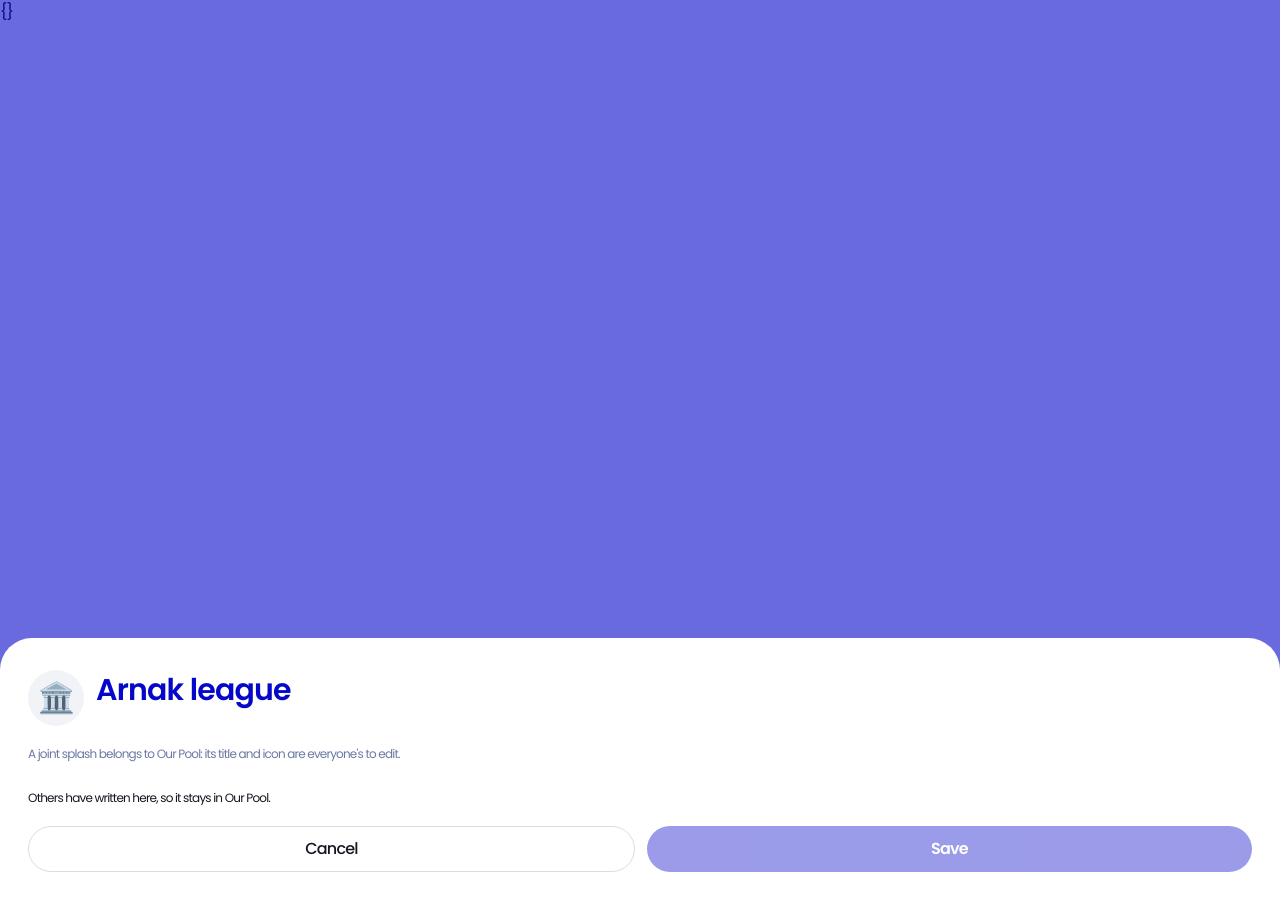
Test: editing a joint splash (review) › offers title and icon only, saves them, and shows them at once
The image size is (1280, 900).
Expected: the element that starts with "Arnak league" is shown, [28, 670, 1252, 872]
Expected: the button "Save" is disabled, [647, 826, 1252, 872]
Step 1. Replace the text in the text box named "title" with "Arnak finals" → (674,691), box [96, 670, 1252, 711]
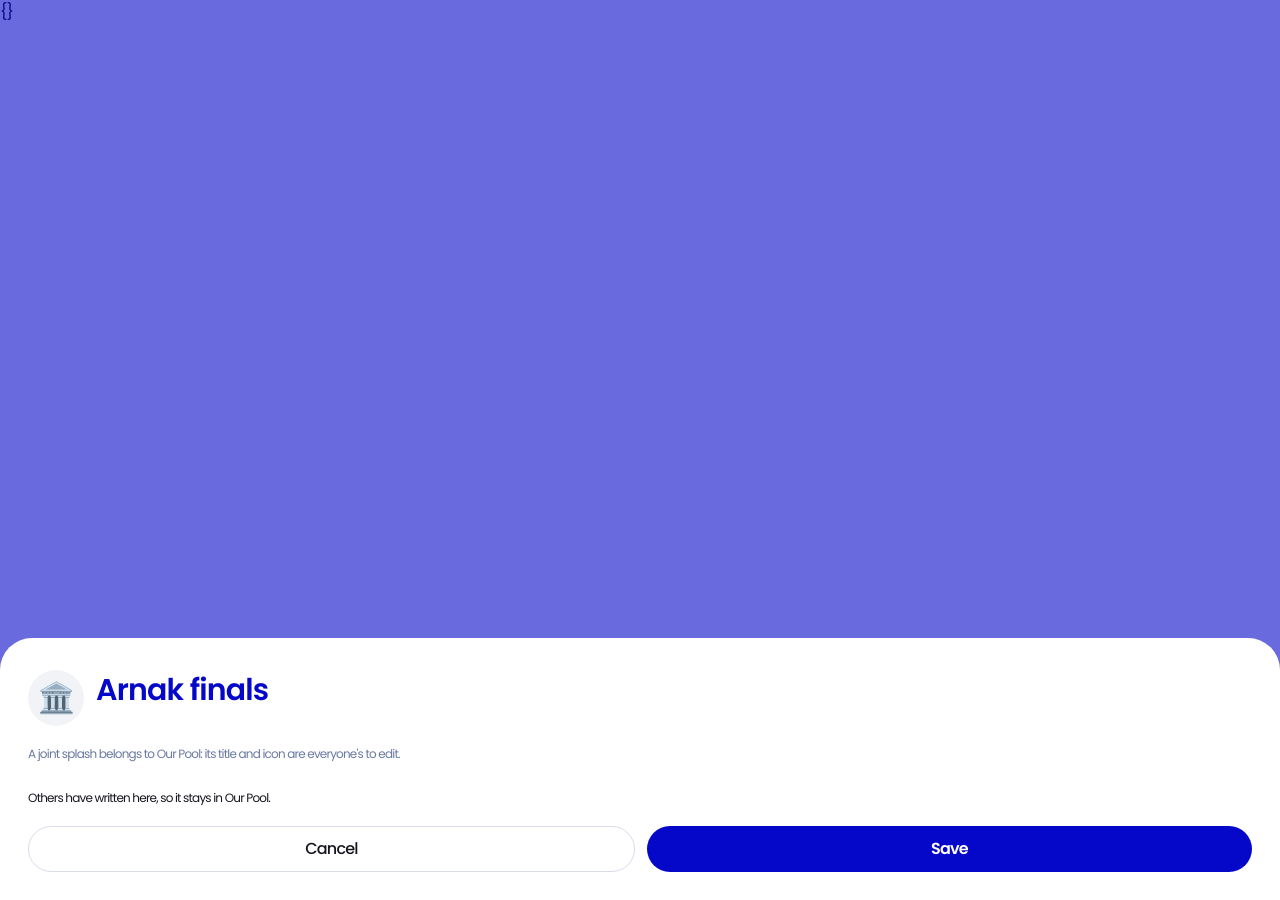
Result: the button "Save" is enabled
Step 2. Click the button "Save" → (950,849), box [647, 826, 1252, 872]
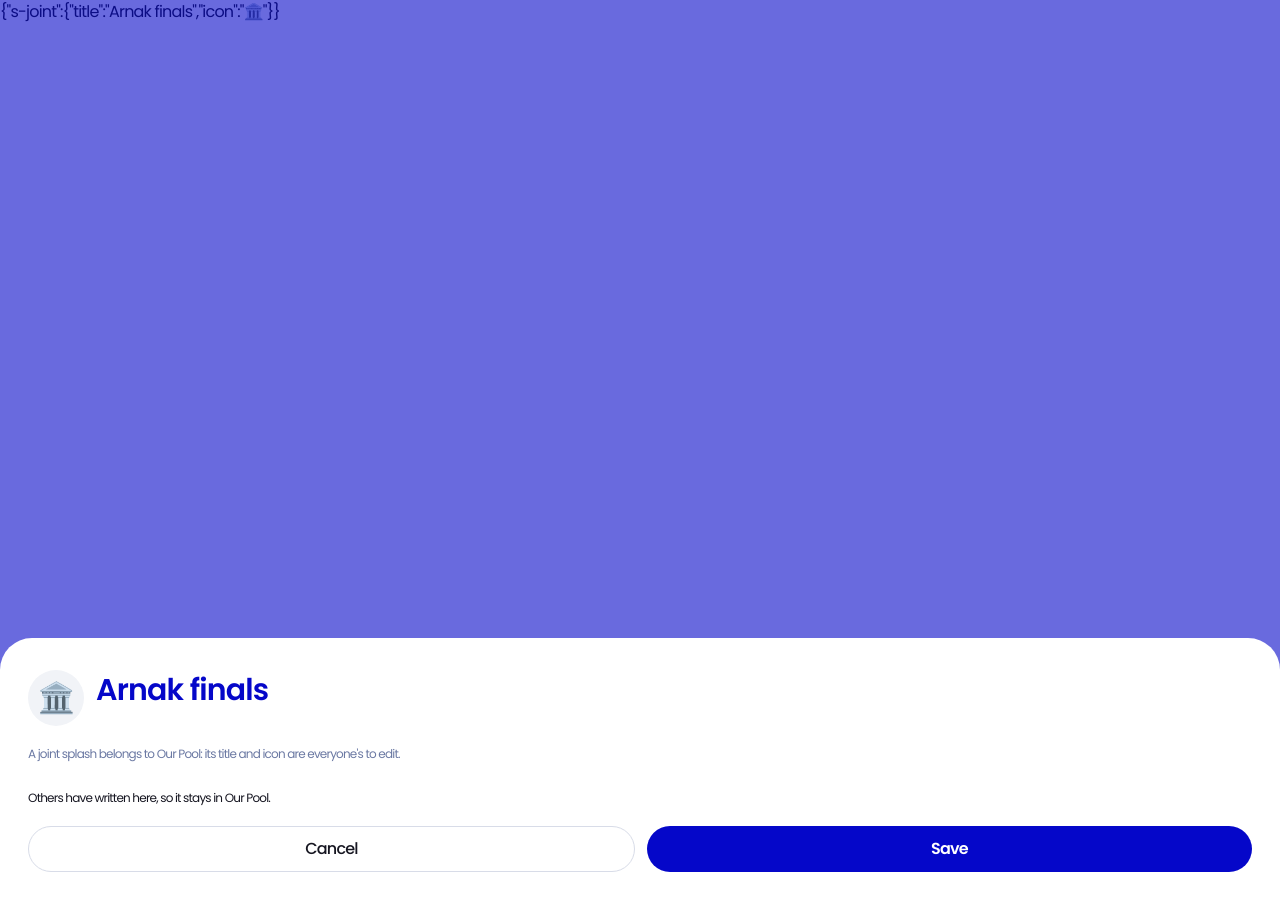
Result: the text "{\"s-joint\":{\"title\":\"Arnak finals\",\"icon\":\"🏛️\"}}" is shown at [0, 0, 280, 23]
